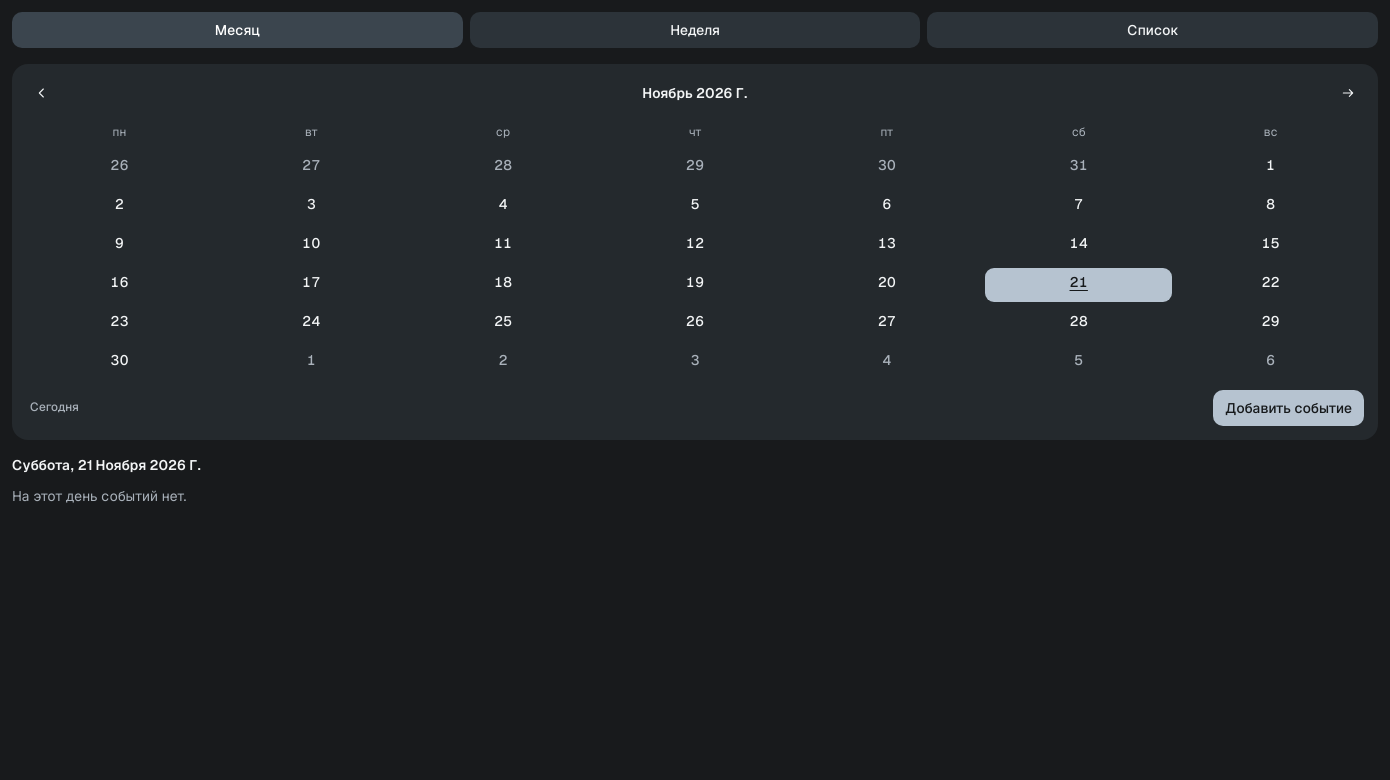
it: supports arrow-key date selection and receives calendar changes
Press ArrowRight in the button "21", box [985,268,1172,302]
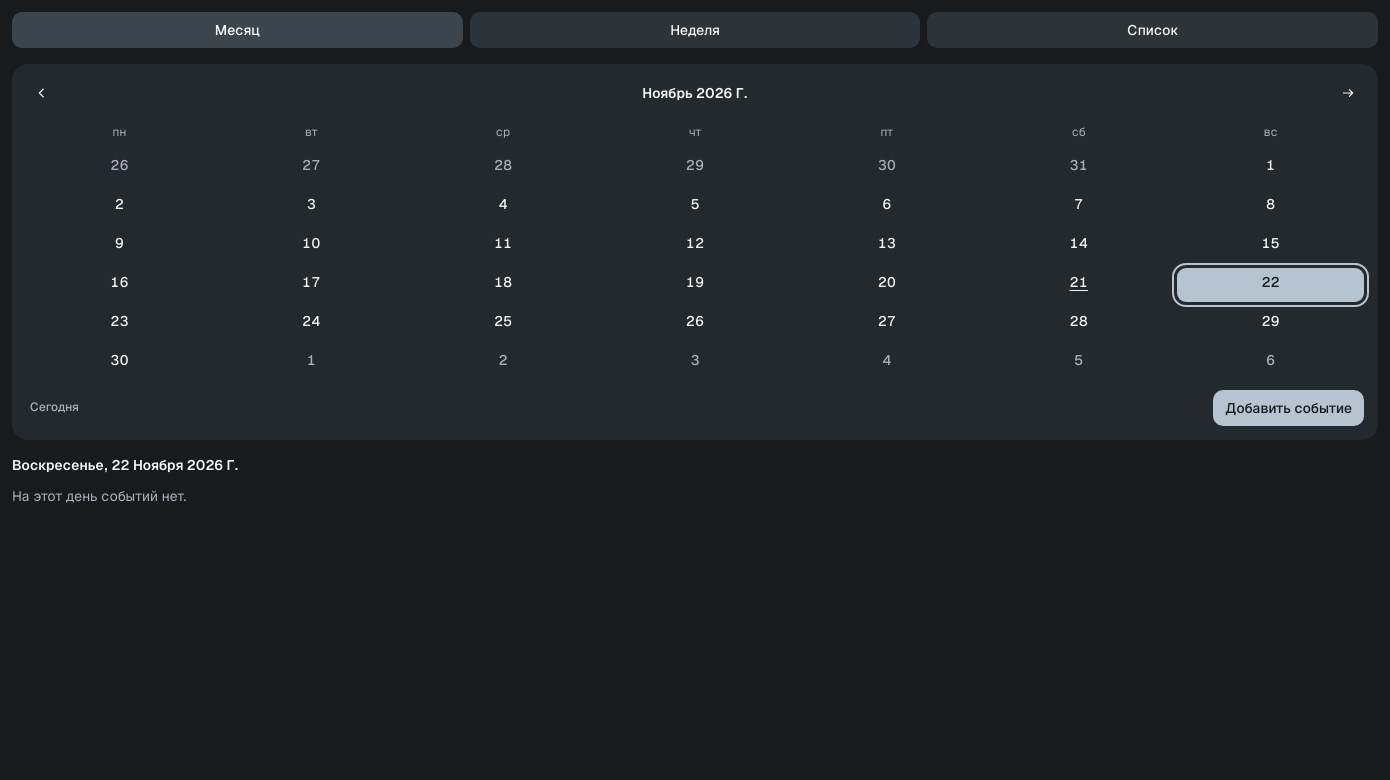
Click the button "Сегодня": (54, 408) [26,394,83,422]
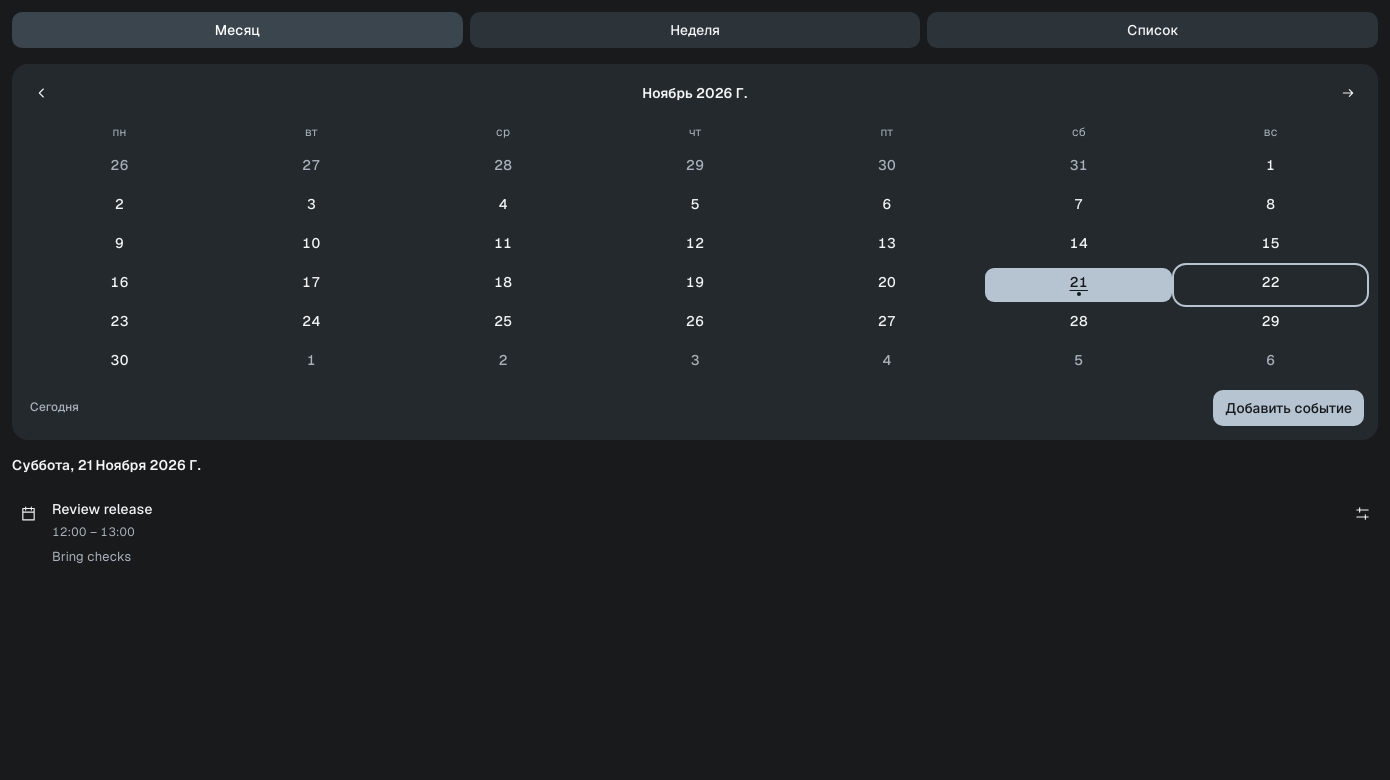
expect the text "Review release" is shown: met, box [52,500,152,518]
